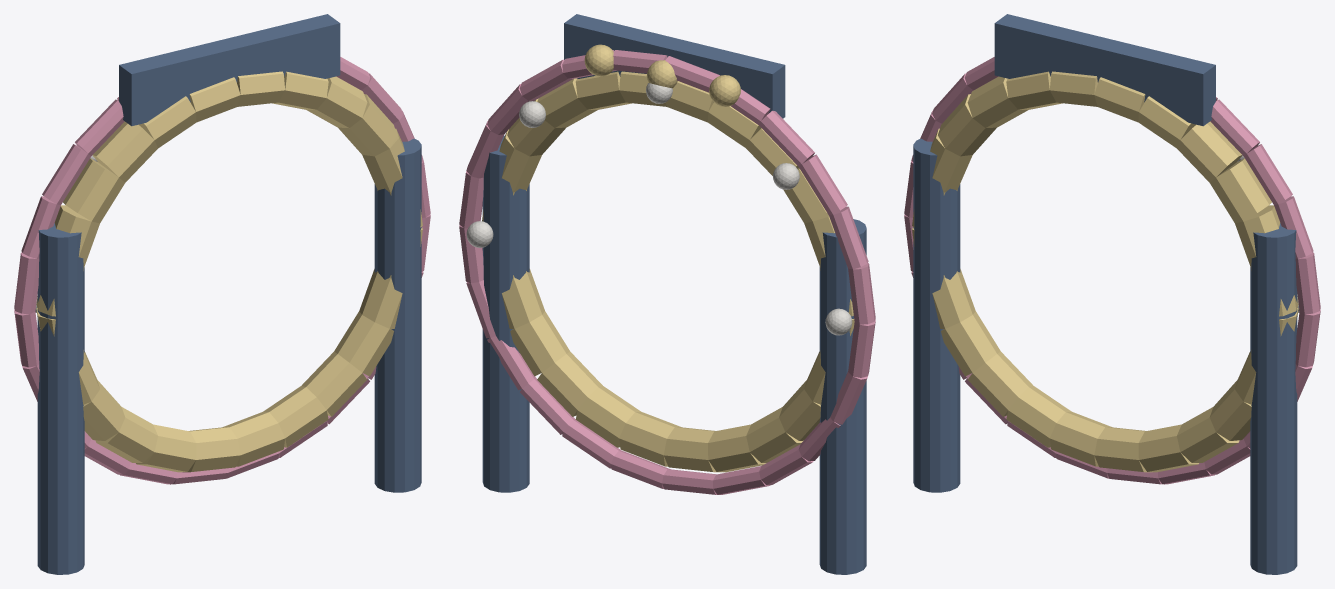
The model's file is trophy_portal.glb.
3 views of the same model, side by side, from view 1: azimuth 30°, elevation 25°; view 2: azimuth 150°, elevation 25°; view 3: azimuth 330°, elevation 25° (orthographic).
Parts seen in each view (by area): view 1: trophy_portal; view 2: trophy_portal; view 3: trophy_portal.
Part boxes in pixels (bbox=[...]): trophy_portal: bbox=[14, 14, 430, 574]; trophy_portal: bbox=[459, 14, 875, 574]; trophy_portal: bbox=[904, 14, 1320, 574].
Size of the model in its own units: 5.66 by 6.26 by 0.793.
